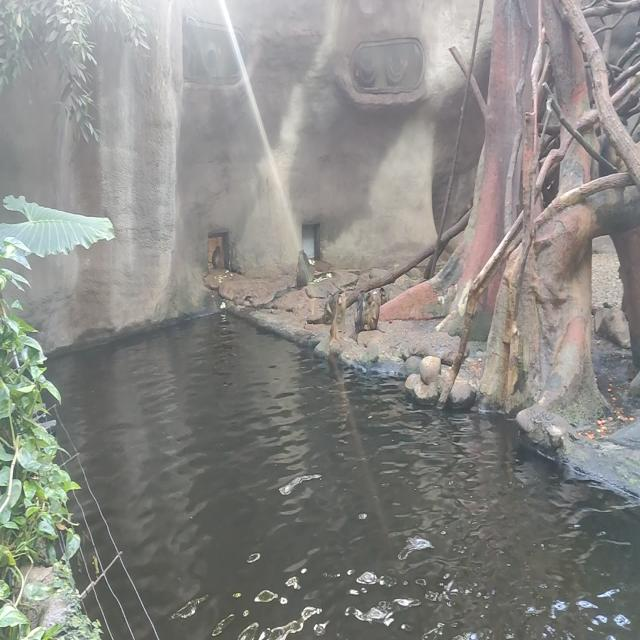monkey: (324, 290, 346, 340), (365, 296, 385, 333), (354, 299, 368, 342), (296, 249, 310, 290), (212, 246, 220, 268)
